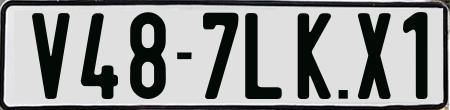1: (401, 12, 427, 100)
4: (78, 13, 120, 105)
7: (201, 11, 240, 99)
8: (130, 11, 171, 101)
K: (296, 11, 330, 100)
L: (245, 12, 283, 103)
V: (29, 11, 73, 103)
X: (356, 12, 395, 99)
